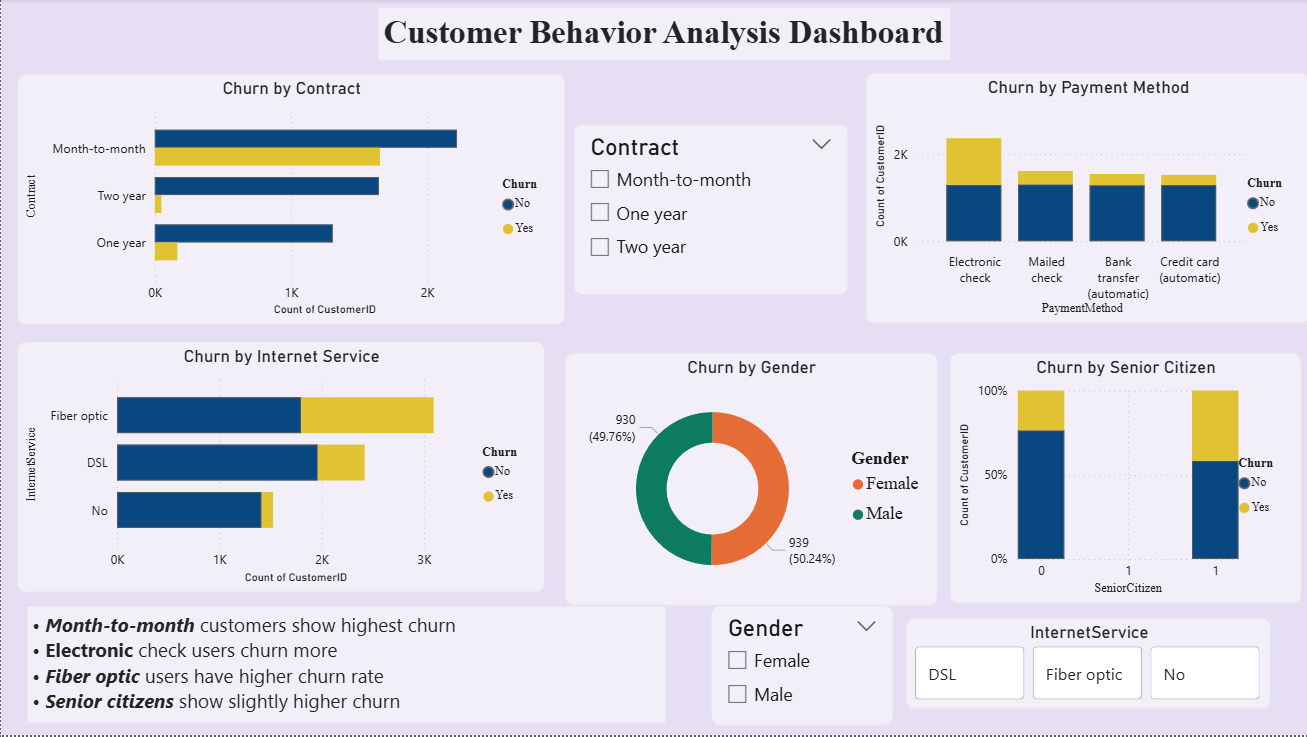

The page's visual inventory and layout, read from the dashboard file:
{"tool":"powerbi","page":{"name":"Customer Analysis","canvas":[1280,720],"ordinal":1},"visuals":[{"type":"textbox","box":[369.3,8.6,558.8,51.4],"z":0},{"type":"clusteredBarChart","title":"Churn by Contract","fields":{"Category":["Telco_customer_churn.Contract"],"Y":["CountNonNull(Telco_customer_churn.CustomerID)"],"Series":["Telco_customer_churn.Churn"]},"box":[15.9,73.4,535.6,245.8],"z":1000},{"type":"columnChart","title":"Churn by Payment Method","fields":{"Category":["Telco_customer_churn.PaymentMethod"],"Y":["CountNonNull(Telco_customer_churn.CustomerID)"],"Series":["Telco_customer_churn.Churn"]},"box":[846.2,72.1,434.1,245.8],"z":2000},{"type":"barChart","title":"Churn by Internet Service","fields":{"Category":["Telco_customer_churn.InternetService"],"Y":["CountNonNull(Telco_customer_churn.CustomerID)"],"Series":["Telco_customer_churn.Churn"]},"box":[15.9,335.1,516,245.8],"z":3000},{"type":"donutChart","title":"Churn by Gender","fields":{"Category":["Telco_customer_churn.Gender"],"Y":["CountNonNull(Telco_customer_churn.CustomerID)"]},"box":[551.5,346.1,364.4,247],"z":4000},{"type":"hundredPercentStackedColumnChart","title":"Churn by Senior Citizen","fields":{"Category":["Telco_customer_churn.SeniorCitizen"],"Y":["CountNonNull(Telco_customer_churn.CustomerID)"],"Series":["Telco_customer_churn.Churn"]},"box":[928.1,346.1,343.6,245.8],"z":5000},{"type":"slicer","fields":{"Values":["Telco_customer_churn.Gender"]},"box":[694.6,593.1,178.5,117.4],"z":6000},{"type":"advancedSlicerVisual","fields":{"Values":["Telco_customer_churn.InternetService"]},"box":[885.3,605.3,357.1,89.3],"z":7000},{"type":"slicer","fields":{"Values":["Telco_customer_churn.Contract"]},"box":[560.1,122.3,269,167.5],"z":8000},{"type":"textbox","box":[25.7,594.3,623.6,113.7],"z":9000}]}

Visuals, with their boxes in screenshot pixels (x1, y1, x2, y2), scaled from the page's 1280x720 canvas onto the 1307x737 screenshot:
textbox: 377:9:948:61
"Churn by Contract" clusteredBarChart: 16:75:563:327
"Churn by Payment Method" columnChart: 864:74:1306:325
"Churn by Internet Service" barChart: 16:343:543:595
"Churn by Gender" donutChart: 563:354:935:607
"Churn by Senior Citizen" hundredPercentStackedColumnChart: 948:354:1299:606
slicer - Telco_customer_churn.Gender: 709:607:892:727
advancedSlicerVisual - Telco_customer_churn.InternetService: 904:620:1269:711
slicer - Telco_customer_churn.Contract: 572:125:847:297
textbox: 26:608:663:725
